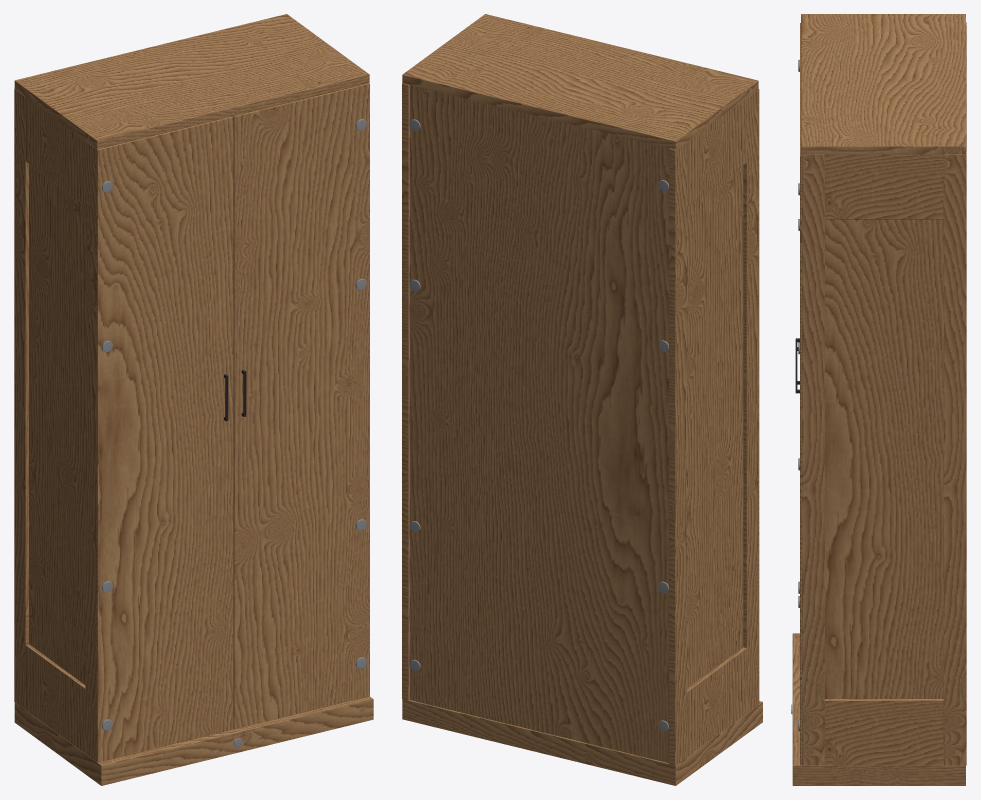
Rendered from wardrobe.fbx.
The picture shows the model from 3 angles, left to right: view 1: azimuth 30°, elevation 25°; view 2: azimuth 150°, elevation 25°; view 3: azimuth 270°, elevation 25°; orthographic projection.
Parts seen in each view (by area): view 1: Modern Wooden Wardrobe; view 2: Modern Wooden Wardrobe; view 3: Modern Wooden Wardrobe.
Part boxes in pixels (box(x1,y1,x2,y2)): Modern Wooden Wardrobe: box(14, 14, 373, 785); Modern Wooden Wardrobe: box(402, 14, 762, 785); Modern Wooden Wardrobe: box(791, 14, 966, 785).
Bounding box in the file's own units: 79.99 × 180 × 44.77.
1 material, 1 textured.
